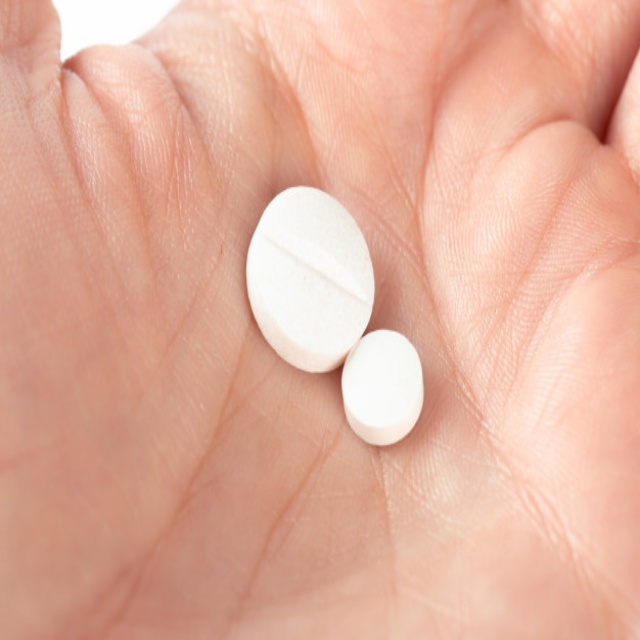pill: (242, 120, 366, 241), (335, 215, 417, 291)
